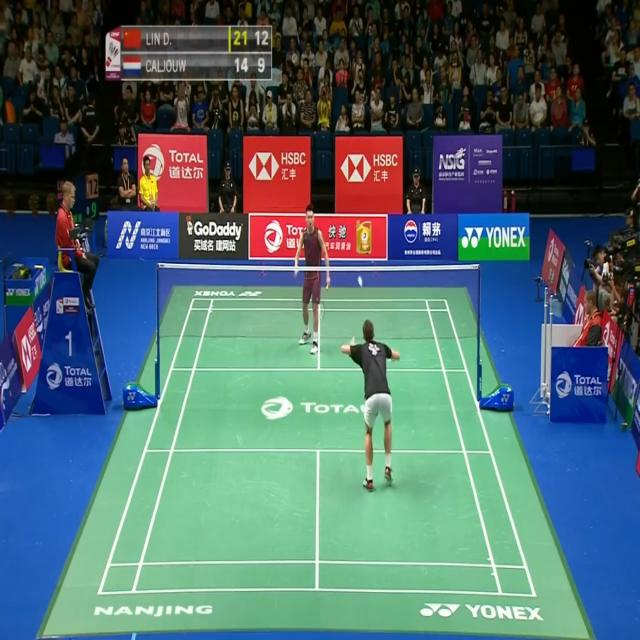Player1: (340, 307, 402, 497)
Player2: (292, 202, 332, 359)
